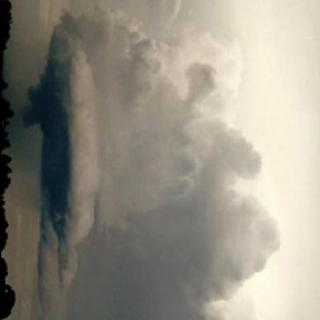Cumulus: (33, 0, 290, 320)
